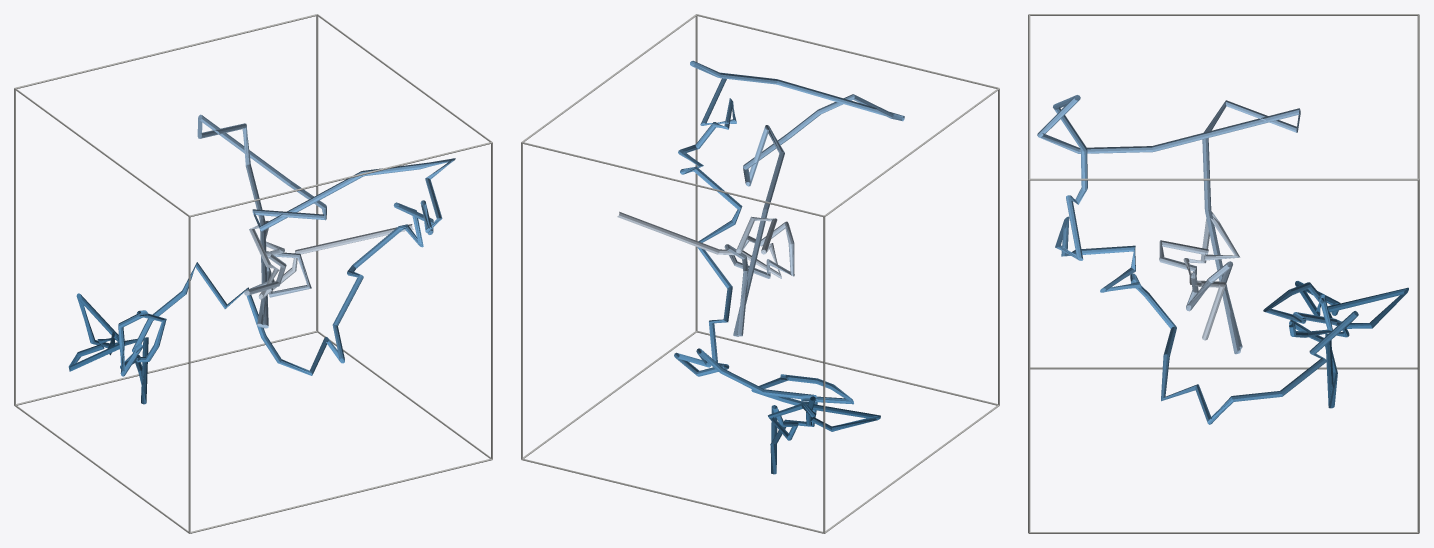
3 renders of one model, left to right at view 1: azimuth 30°, elevation 25°; view 2: azimuth 150°, elevation 25°; view 3: azimuth 270°, elevation 25°, orthographic. The views are drawn at different scales.
Visible parts, largest first — view 1: geometry_0, geometry_1; view 2: geometry_0, geometry_1; view 3: geometry_0, geometry_1.
Boxes of the visible parts, box(x1,y1,x2,y2) form: geometry_0: box(68, 114, 455, 404); geometry_1: box(14, 14, 492, 533); geometry_0: box(617, 60, 904, 474); geometry_1: box(521, 14, 999, 533); geometry_0: box(1037, 95, 1408, 424); geometry_1: box(1028, 14, 1419, 533).
Size of the model in its own units: 0.3019 by 0.3014 by 0.3016.
